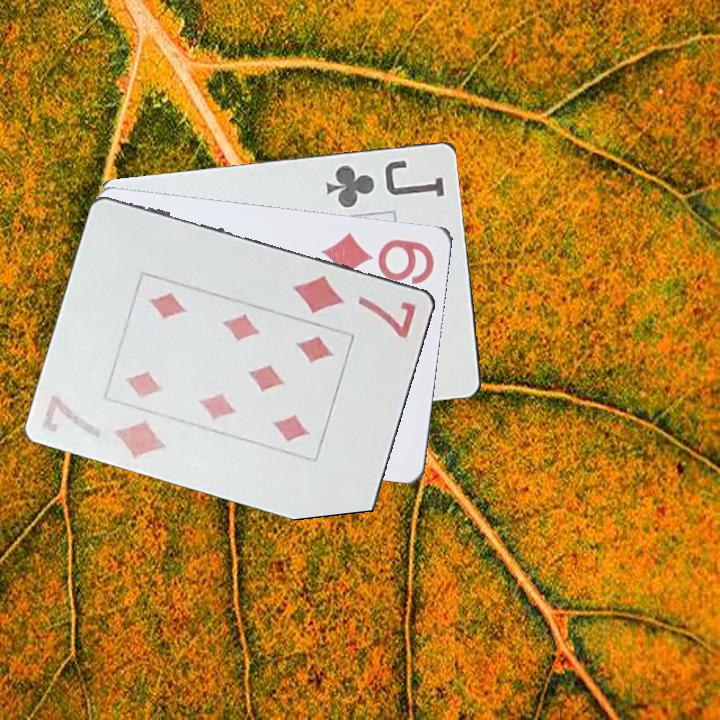6d: (318, 229, 438, 287)
7d: (39, 391, 171, 461), (289, 272, 420, 341)
Jc: (322, 155, 448, 211)
